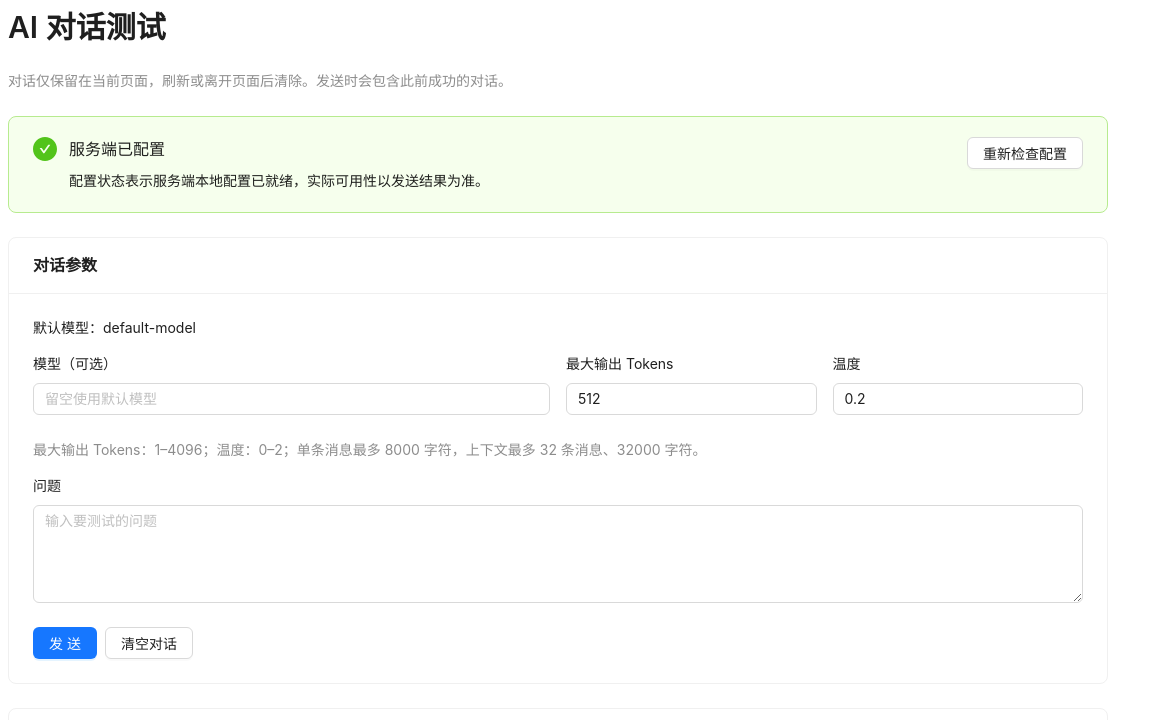
Test: AI dialogue at the HTTP boundary › rejects invalid 最大输出 Tokens value 1.5
Expected: the text box labelled "问题" is shown, [33,505,1083,603]
Expected: the text "服务端已配置" is shown, [69,139,165,159]
Replace the text in the number field labelled "最大输出 Tokens" with "1.5" at (691, 399), box [567,384,816,414]
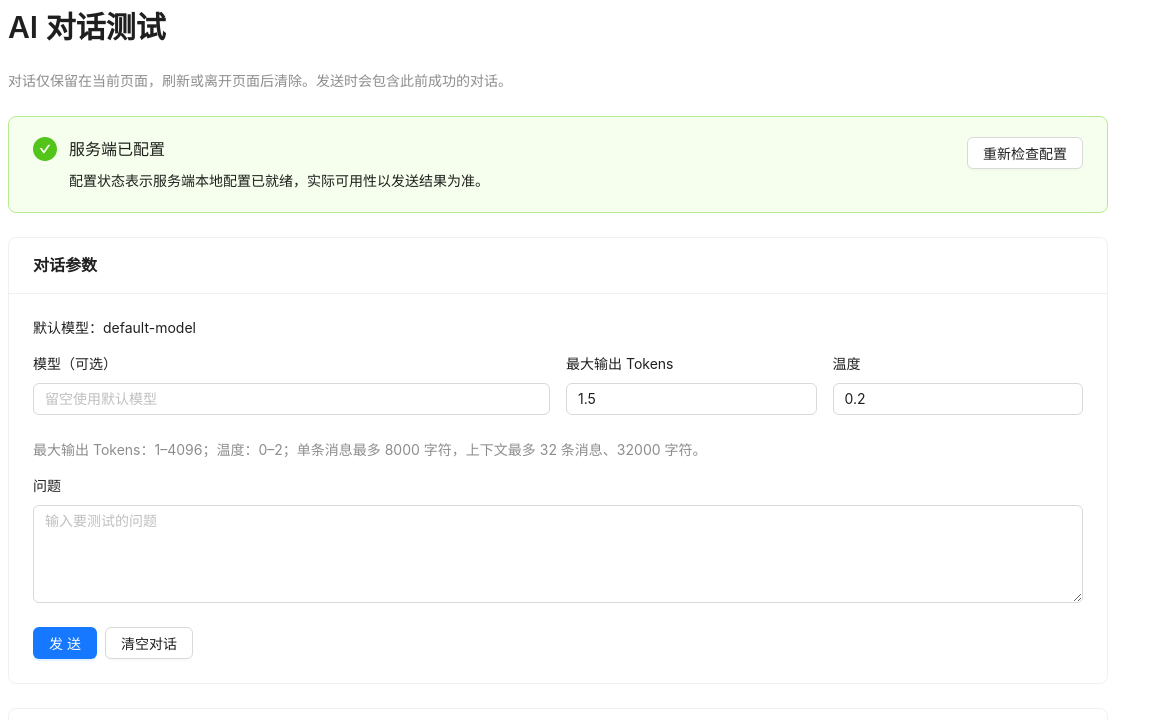
Type "你好" into the text box labelled "问题" at (558, 554), box [33,505,1083,603]
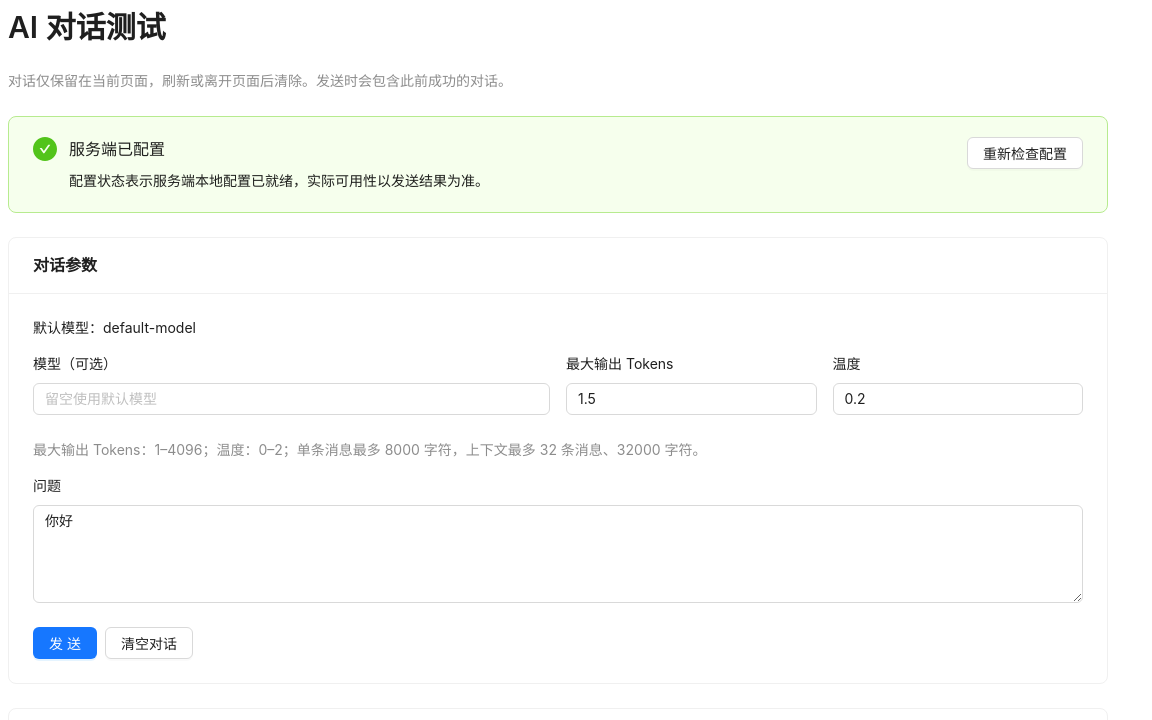
Click the button named "发送" at (65, 643), box [33,627,97,659]
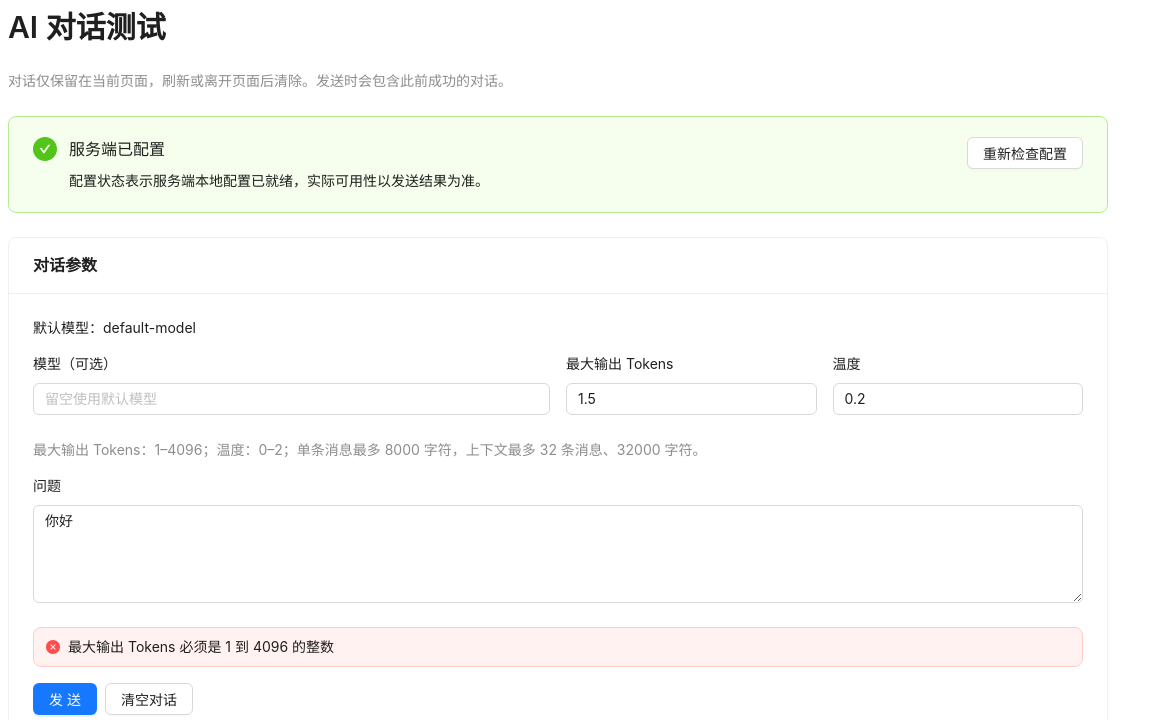
Result: the text "最大输出 Tokens 必须是 1 到 4096 的整数" is shown at [68,638,334,655]
